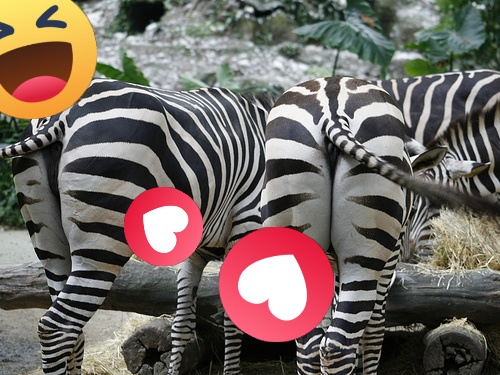haha: (0, 0, 97, 119)
love: (219, 227, 334, 342), (124, 187, 203, 266)
